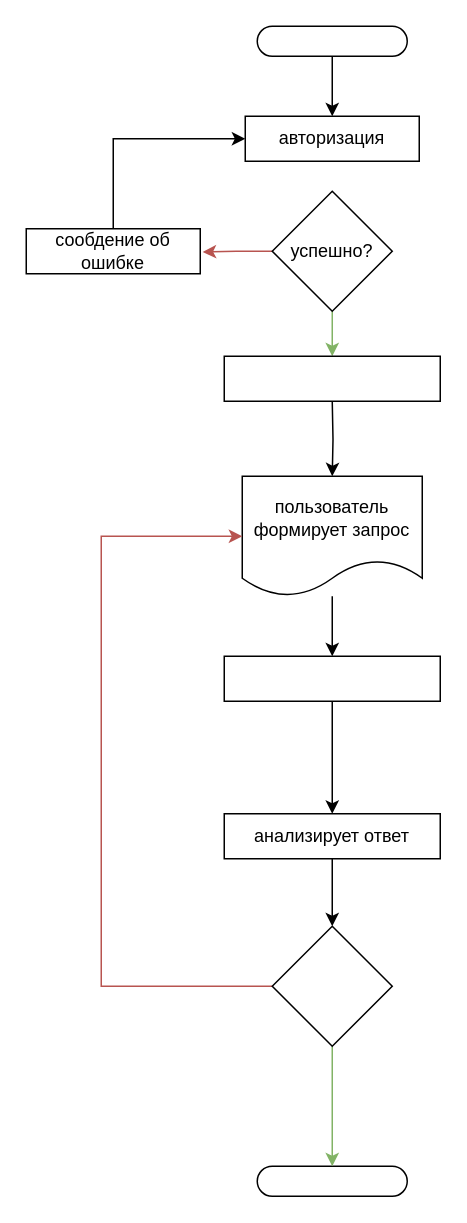
The diagram is 467 pixels wide and 1223 high, and some of its shapes have lost their labels. The shapes that lost their labels are listed below. From the top down, each one's centre as x and y in pixels, then its label:
At point (331, 378): "пользователь переходит на страницу с AI".
At point (331, 678): "отправлет запрос".
At point (331, 985): "ответ устроил?".
